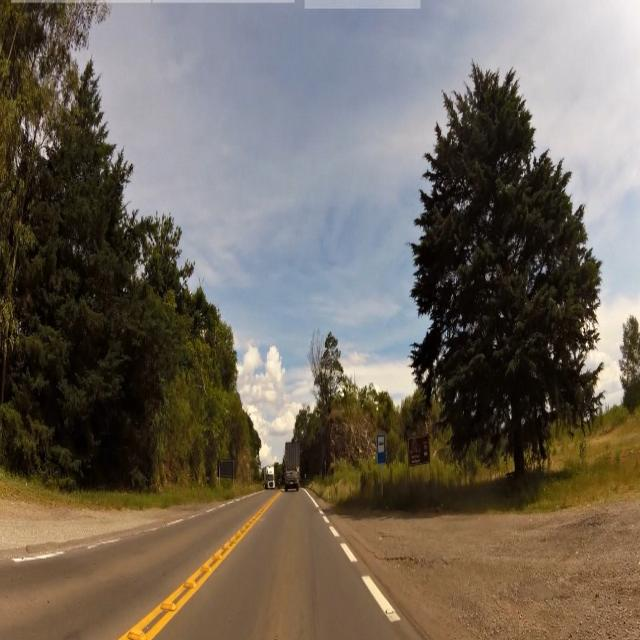S-14: (377, 432, 386, 465)
TUR-4: (406, 434, 430, 463)
